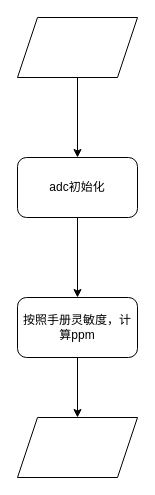
The diagram is 155 pixels wide and 495 high, and some of its shapes have lost their labels. The shapes that lost their labels are listed below. From the top down, each one's centre as x and y in pixels, then its label:
point 77,47: 开始
point 77,447: 结束
